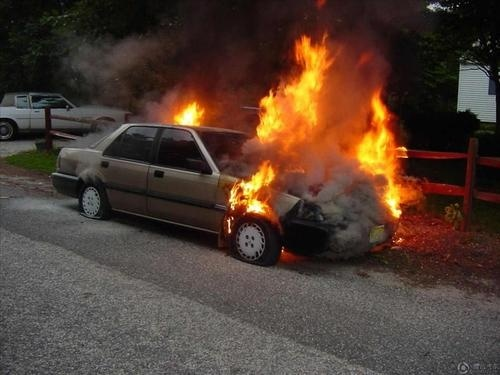fire: (231, 29, 343, 222), (349, 80, 408, 219), (171, 98, 206, 126)
